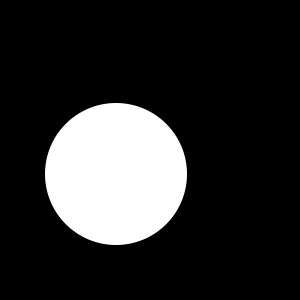rectangle: (45, 103, 187, 245)
